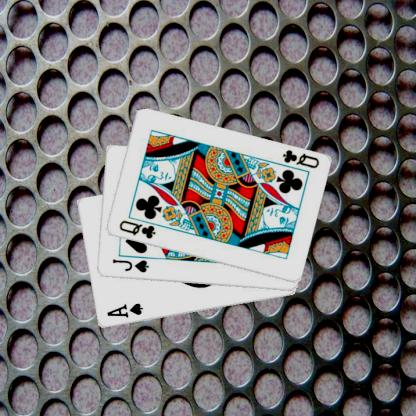AS: (104, 301, 144, 320)
JS: (110, 257, 150, 274)
QC: (280, 147, 320, 170), (116, 218, 157, 240)
